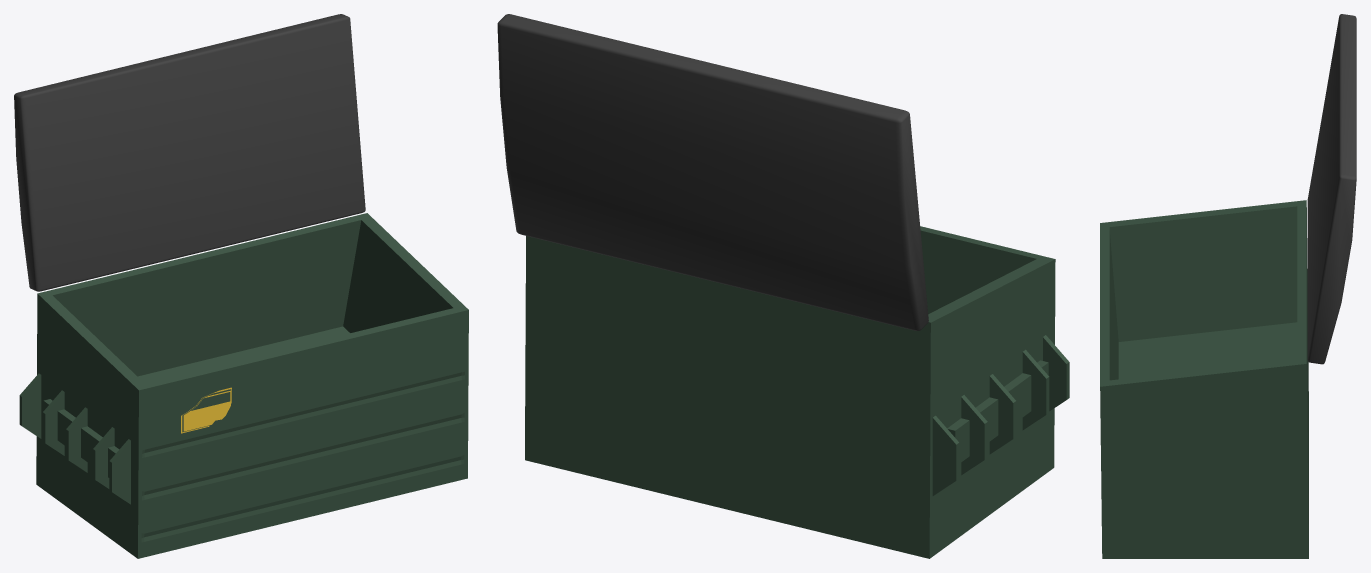
File: TrashBin.fbx
The picture shows the model from 3 angles, left to right: view 1: azimuth 30°, elevation 25°; view 2: azimuth 150°, elevation 25°; view 3: azimuth 270°, elevation 25°; orthographic projection. The views are drawn at different scales.
Parts seen in each view (by area): view 1: TrashBin, TrashLid; view 2: TrashBin, TrashLid; view 3: TrashBin, TrashLid.
Part boxes in pixels (x1,y1,x2,y2): TrashBin: [19, 213, 468, 558]; TrashLid: [14, 14, 365, 291]; TrashBin: [525, 226, 1069, 558]; TrashLid: [497, 14, 928, 330]; TrashBin: [1100, 200, 1308, 558]; TrashLid: [1307, 14, 1356, 364].
Bounding box in the file's own units: 258 × 266 × 163.
